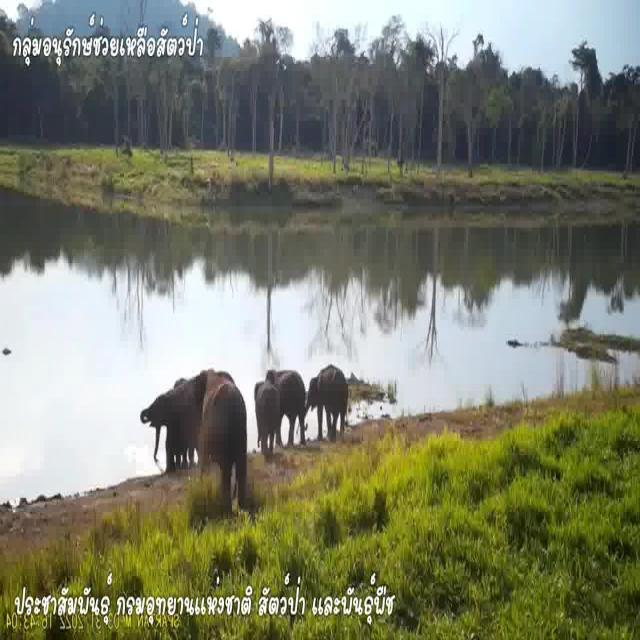Elephant: (138, 378, 195, 452), (263, 365, 307, 439), (306, 367, 349, 432), (252, 379, 280, 439)
